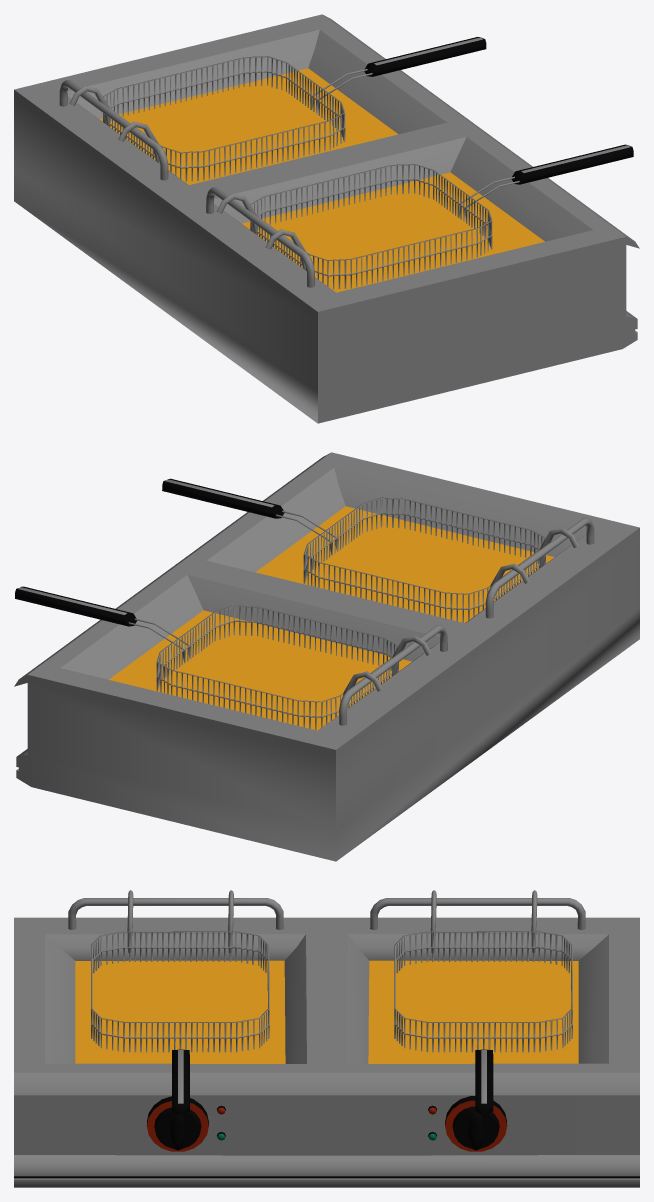
File: fryer.fbx
3 renders of one model, top to bottom at view 1: azimuth 30°, elevation 25°; view 2: azimuth 150°, elevation 25°; view 3: azimuth 270°, elevation 25°, orthographic. The views are drawn at different scales.
Visible parts, largest first — view 1: fryer; view 2: fryer; view 3: fryer.
Part boxes in pixels (x1=…): fryer: x1=14, y1=14, x2=639, y2=423; fryer: x1=14, y1=452, x2=639, y2=861; fryer: x1=14, y1=890, x2=639, y2=1187.
Bounding box in the file's own units: 256 × 91.51 × 341.
